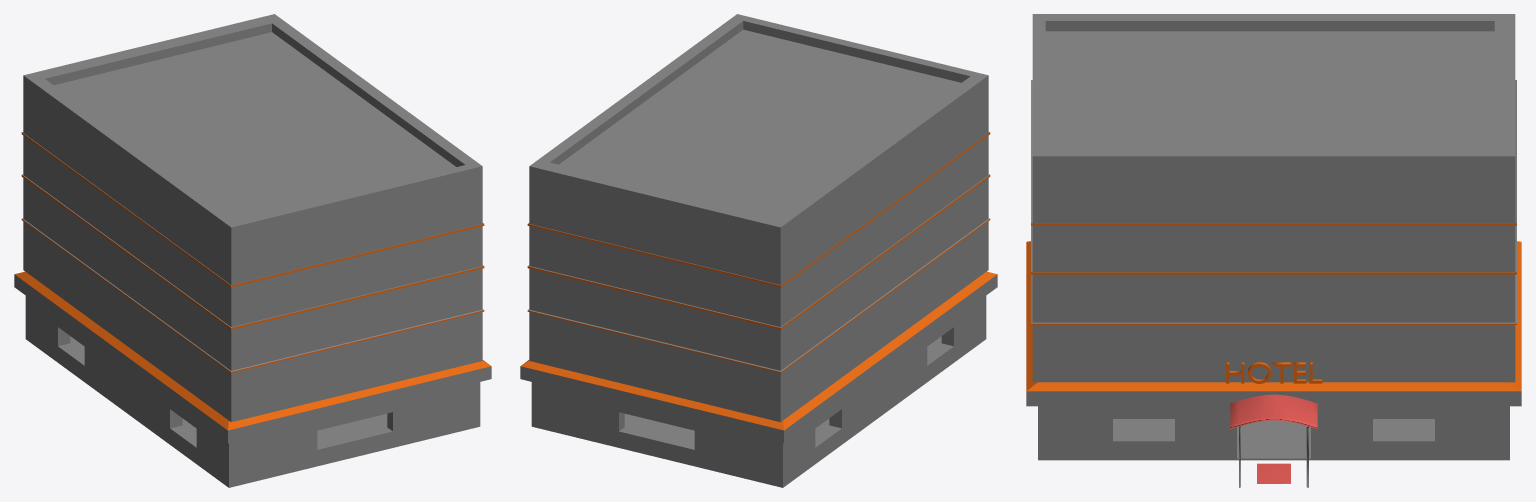
The model's file is Hotel.fbx.
3 renders of one model, left to right at view 1: azimuth 30°, elevation 25°; view 2: azimuth 150°, elevation 25°; view 3: azimuth 270°, elevation 25°, orthographic. The views are drawn at different scales.
Parts seen in each view (by area): view 1: hotel roof, Hotel first floor; view 2: hotel roof, Hotel first floor; view 3: hotel roof, Hotel first floor, Hotel carpa.
Part boxes in pixels (bbox=[...]): hotel roof: bbox=[21, 14, 484, 422]; Hotel first floor: bbox=[14, 271, 491, 487]; hotel roof: bbox=[527, 14, 990, 422]; Hotel first floor: bbox=[520, 271, 997, 487]; hotel roof: bbox=[1031, 14, 1516, 383]; Hotel first floor: bbox=[1026, 241, 1521, 460]; Hotel carpa: bbox=[1230, 394, 1317, 487].
Bounding box in the file's own units: 43.52 × 36.03 × 52.82.
